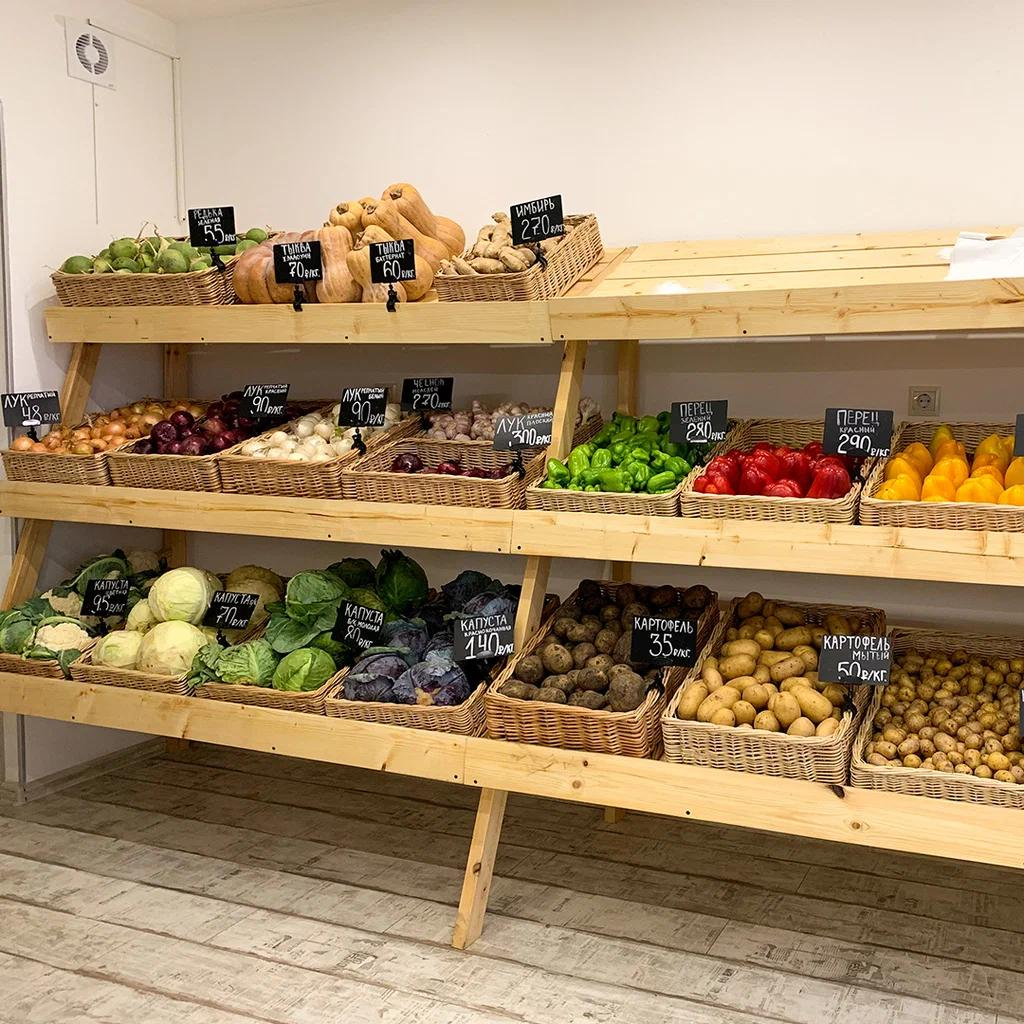butternut squash: (320, 184, 463, 302)
cabbage: (214, 555, 401, 705), (95, 555, 275, 680)
garlic: (424, 396, 599, 435)
ginger: (443, 203, 579, 283)
onion: (12, 397, 205, 453), (246, 400, 401, 466), (131, 400, 250, 459)
potato: (677, 600, 882, 734), (501, 582, 709, 708), (875, 626, 1024, 790), (502, 780, 509, 792)
pumpkin: (234, 229, 322, 302)
sweet pepper: (548, 414, 699, 494), (876, 424, 1024, 504), (699, 436, 866, 501)
